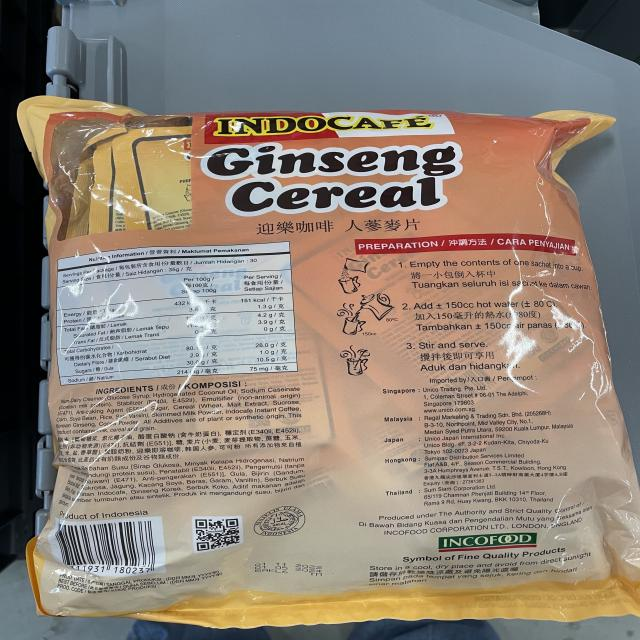object_name: (42, 113, 634, 615)
